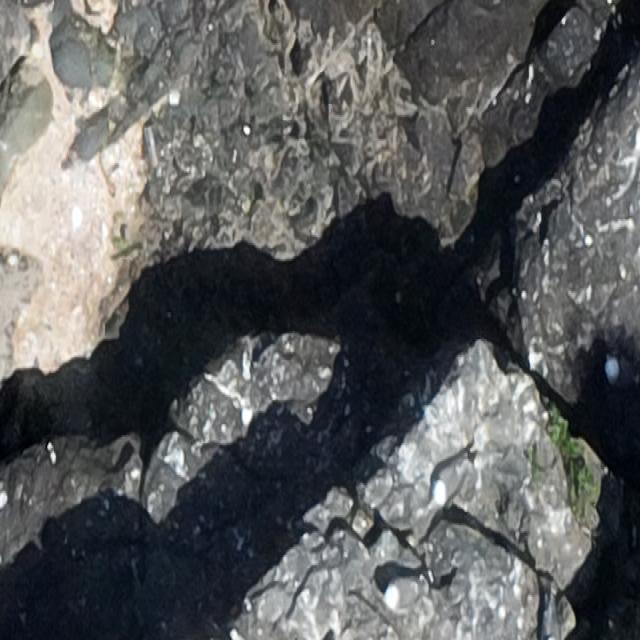umineko: (427, 456, 471, 509), (382, 573, 433, 607), (604, 355, 636, 386)
